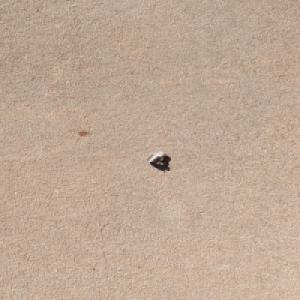MetalPart: (145, 151, 167, 166)
